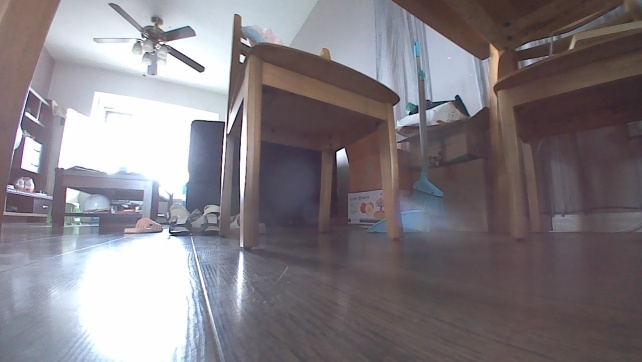slipper: (121, 215, 165, 235)
